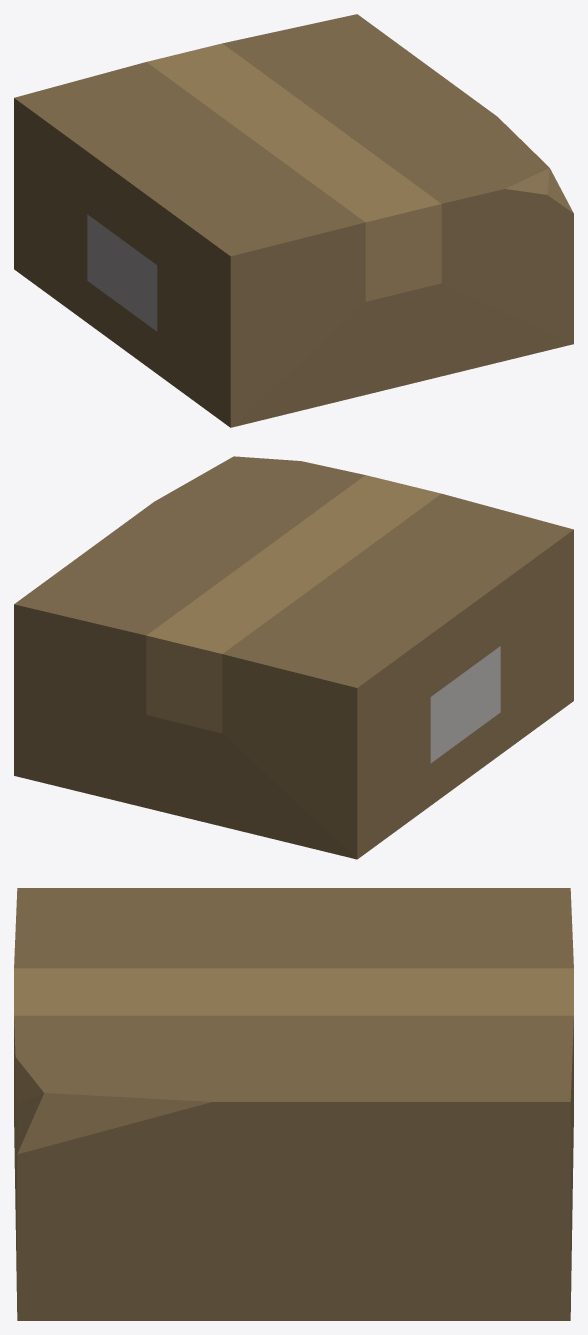
File: SM_Prop_CardboardBox_03.glb
The picture shows the model from 3 angles, top to bottom: view 1: azimuth 30°, elevation 25°; view 2: azimuth 150°, elevation 25°; view 3: azimuth 270°, elevation 25°; orthographic projection. The views are drawn at different scales.
Visible parts, largest first — view 1: SM_Prop_CardboardBox_03; view 2: SM_Prop_CardboardBox_03; view 3: SM_Prop_CardboardBox_03.
Part boxes in pixels (left/top/right/bottom): SM_Prop_CardboardBox_03: left=14, top=14, right=573, bottom=427; SM_Prop_CardboardBox_03: left=14, top=456, right=573, bottom=859; SM_Prop_CardboardBox_03: left=14, top=888, right=573, bottom=1320.
Bounding box in the file's own units: 0.5829 × 0.282 × 0.6447.
1 material, 1 textured.
